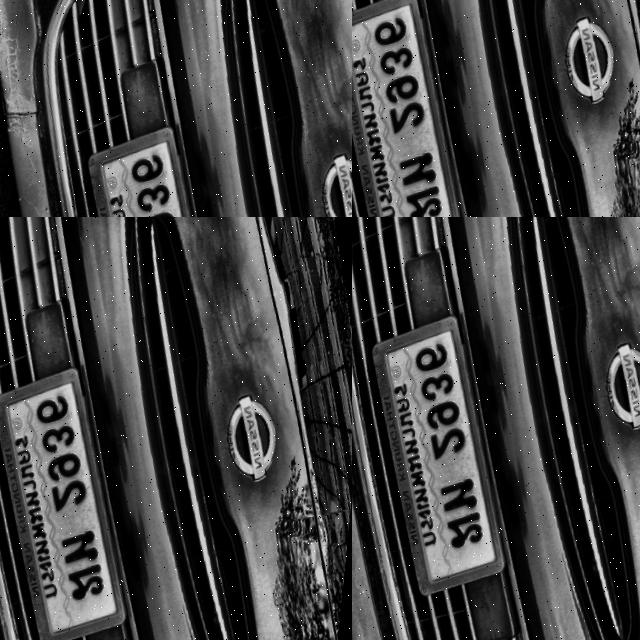license-plate: (193, 244, 352, 640), (352, 310, 543, 611), (228, 83, 280, 158)
